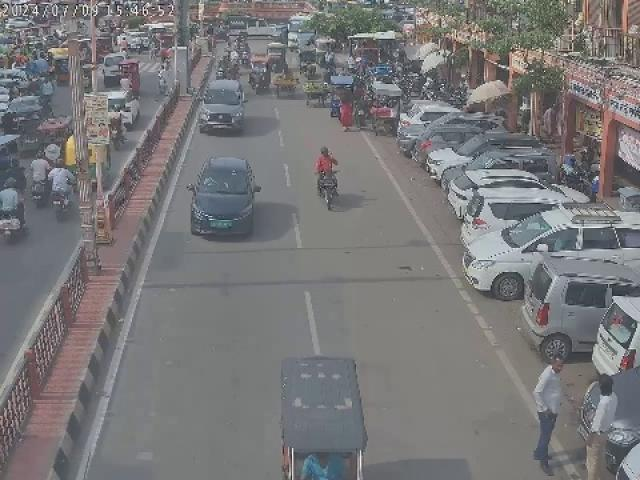auto: (277, 351, 368, 480), (247, 51, 272, 97)
car: (462, 208, 640, 298), (520, 255, 640, 363), (188, 153, 260, 237), (460, 188, 562, 244), (446, 168, 530, 218), (596, 295, 640, 383), (422, 135, 494, 181), (198, 78, 248, 134)
helmet: (318, 146, 332, 156)
motorbike-rider: (312, 146, 340, 208), (48, 164, 78, 220)
person: (530, 358, 568, 478), (580, 370, 618, 477)
scooty-rider: (0, 172, 29, 243)
vendor: (366, 81, 403, 131), (304, 62, 329, 107), (274, 61, 300, 100)
